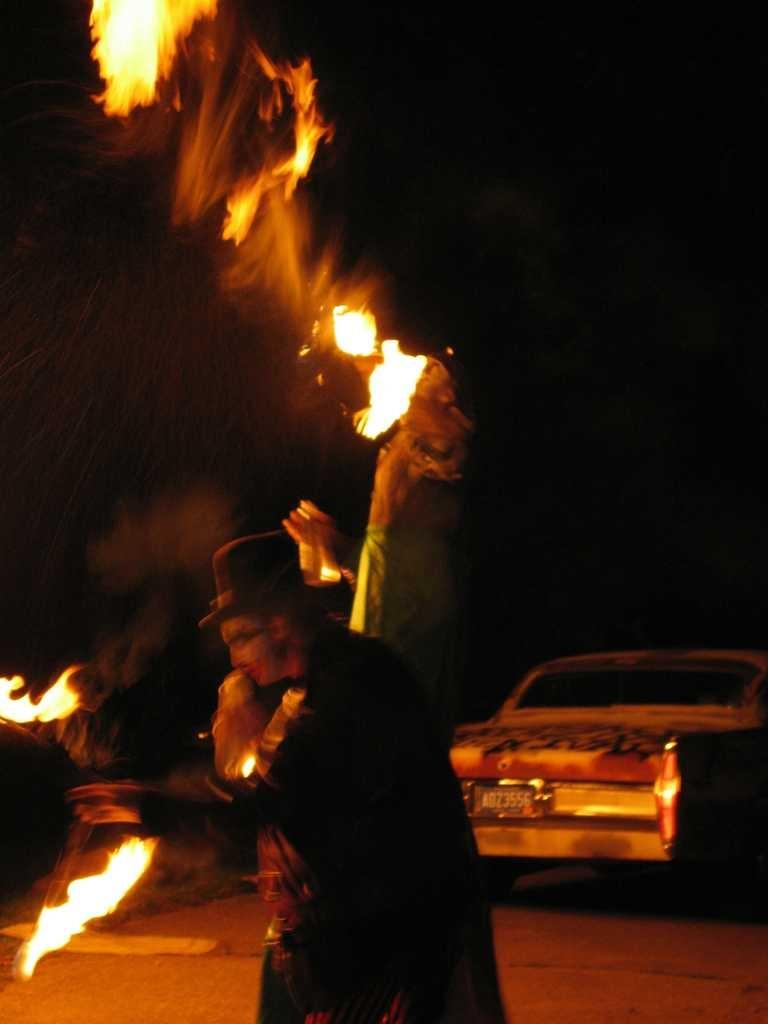fire: (338, 300, 422, 428), (92, 0, 200, 95), (40, 855, 112, 952), (0, 670, 88, 725)
